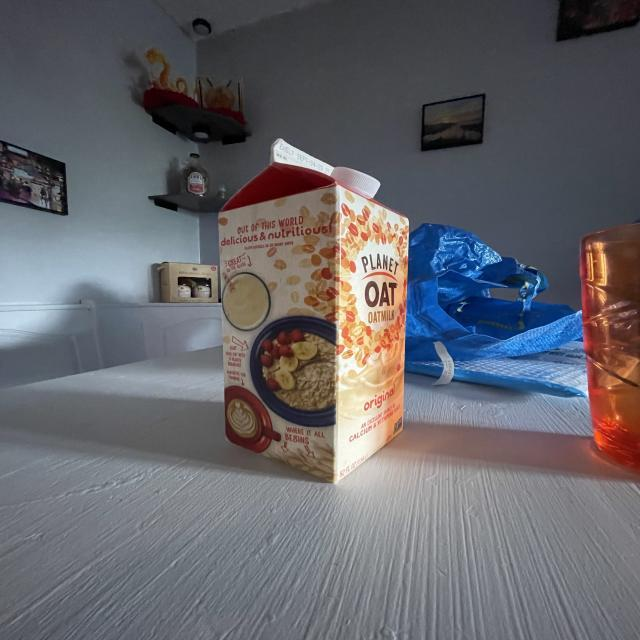Planet Oat Original: (204, 126, 416, 496)
